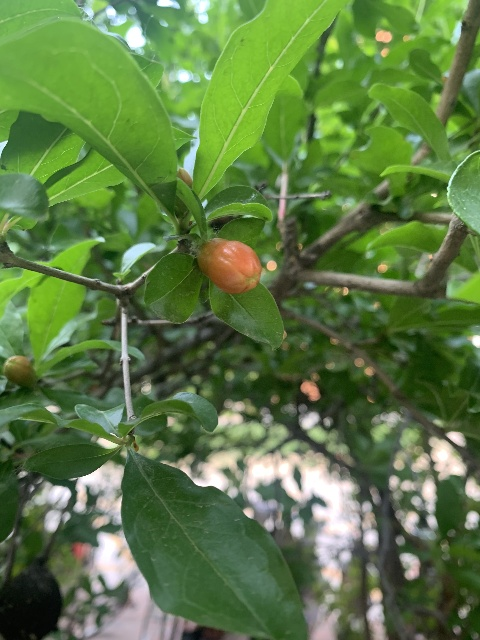bud: (197, 238, 261, 294), (4, 355, 38, 390)
